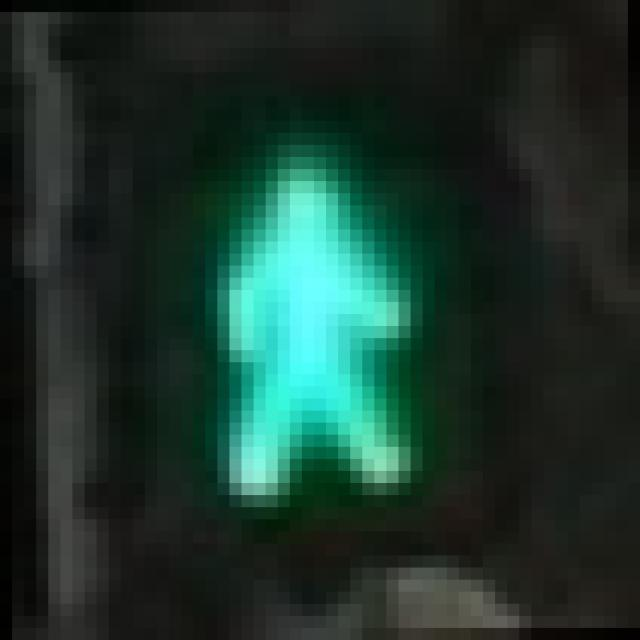geen-crossing: (109, 84, 484, 532)
